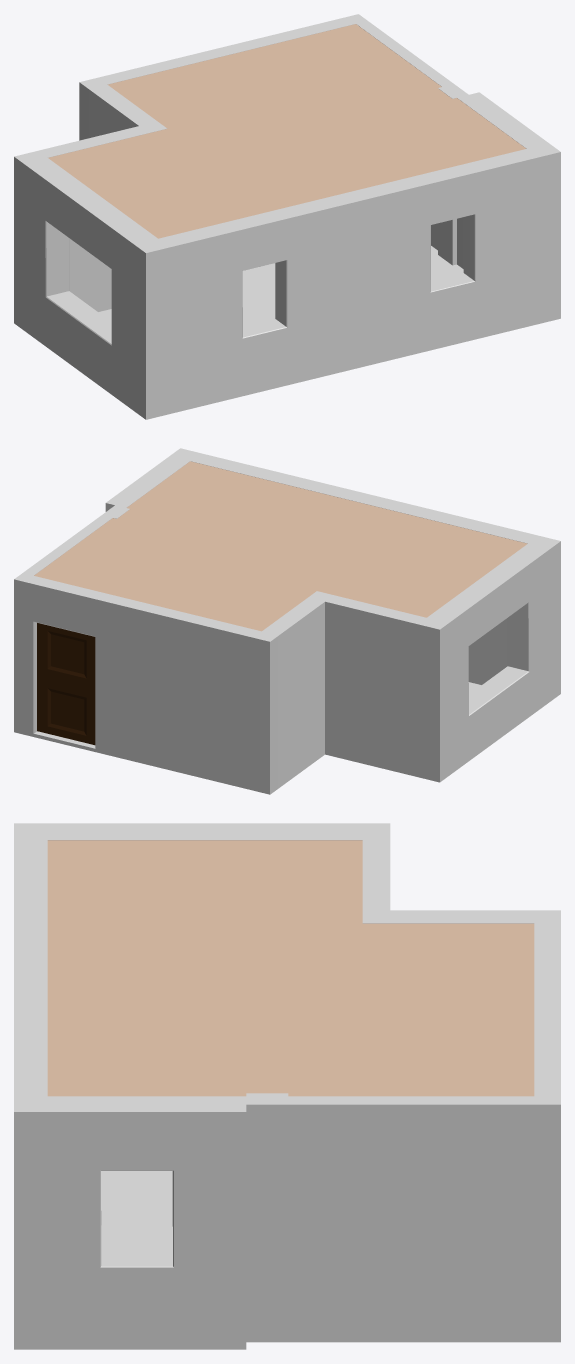
Rendered from Room.fbx.
3 renders of one model, top to bottom at view 1: azimuth 30°, elevation 25°; view 2: azimuth 150°, elevation 25°; view 3: azimuth 270°, elevation 25°, orthographic. The views are drawn at different scales.
Visible parts, largest first — view 1: Walls, Ceiling, Floor; view 2: Walls, Ceiling, Door; view 3: Walls, Ceiling, Floor.
Boxes of the visible parts, x1,y1,x2,y2 form: Walls: (14, 14, 560, 419); Ceiling: (48, 24, 525, 238); Floor: (98, 246, 463, 326); Walls: (14, 448, 560, 794); Ceiling: (34, 461, 527, 631); Door: (37, 623, 95, 745); Walls: (14, 823, 560, 1349); Ceiling: (47, 840, 534, 1096); Floor: (101, 1171, 172, 1251).
Size of the model in its own units: 521 by 200 by 417.
